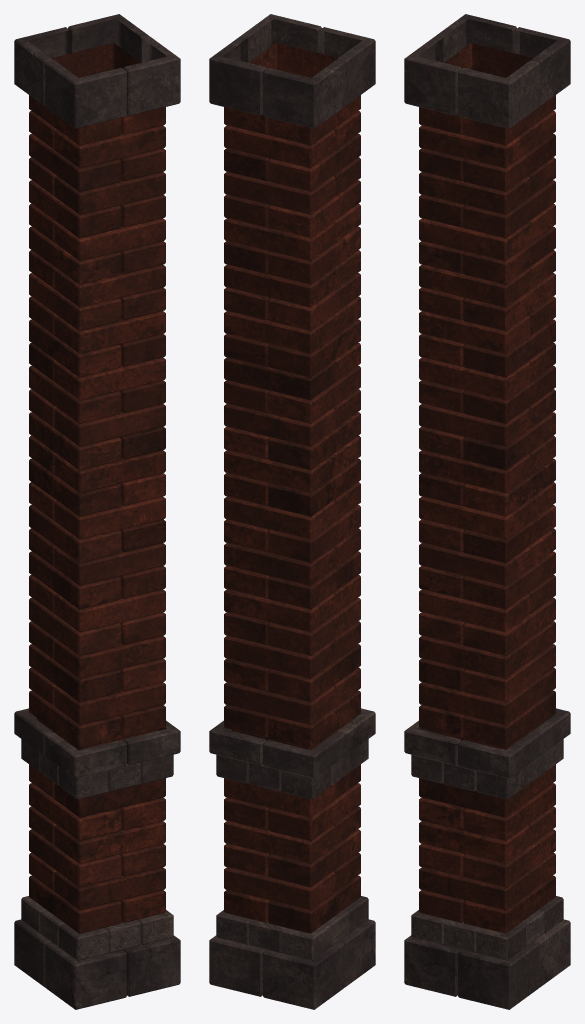
The model's file is SK1 PILLAR EXT.fbx.
The picture shows the model from 3 angles, left to right: view 1: azimuth 30°, elevation 25°; view 2: azimuth 150°, elevation 25°; view 3: azimuth 330°, elevation 25°; orthographic projection.
Visible parts, largest first — view 1: SK1 PILLAR EXT.049; view 2: SK1 PILLAR EXT.049; view 3: SK1 PILLAR EXT.049.
Part boxes in pixels (box(x1,y1,x2,y2)): SK1 PILLAR EXT.049: box(14, 14, 180, 1009); SK1 PILLAR EXT.049: box(209, 14, 375, 1009); SK1 PILLAR EXT.049: box(404, 14, 570, 1009).
Bounding box in the file's own units: 47.96 × 400 × 47.97.
